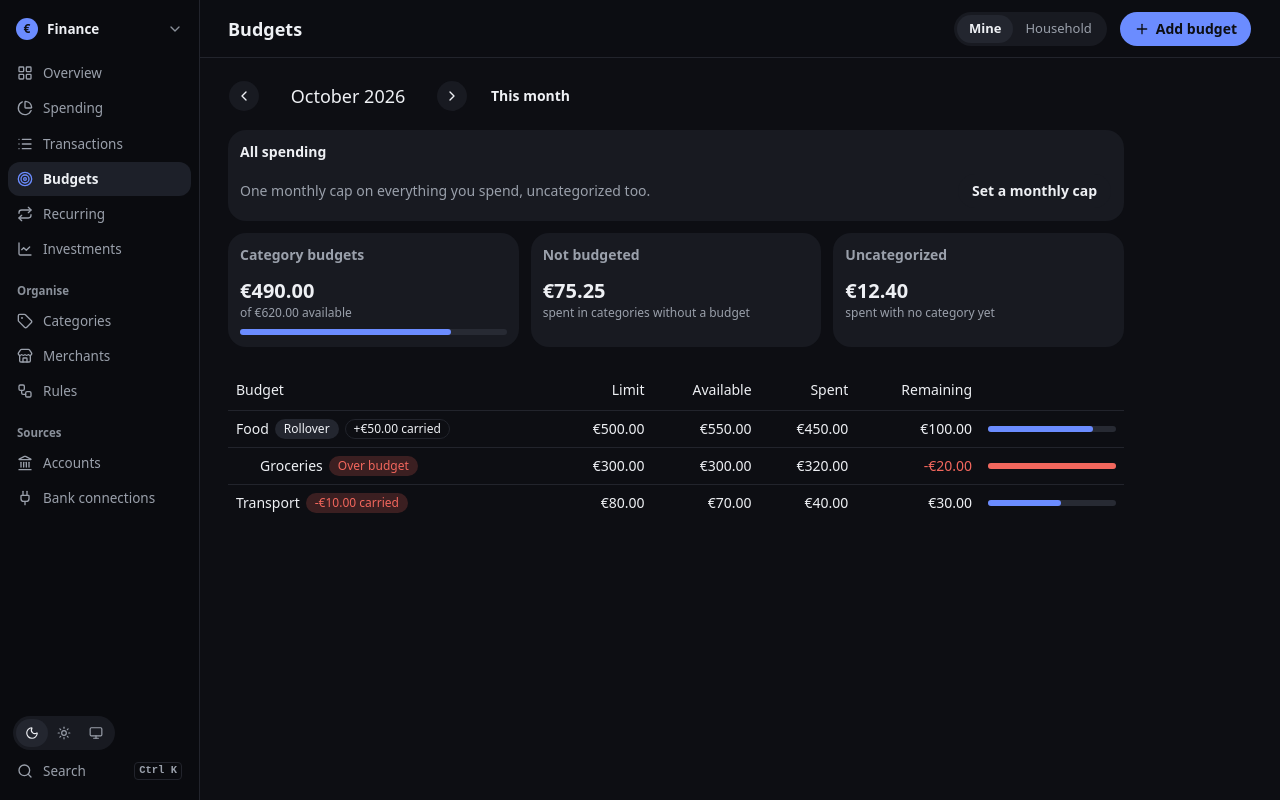
edits a budget from a month on
Click the button "Transport" at (268, 503), box top-left (236, 493), bottom-right (300, 513)
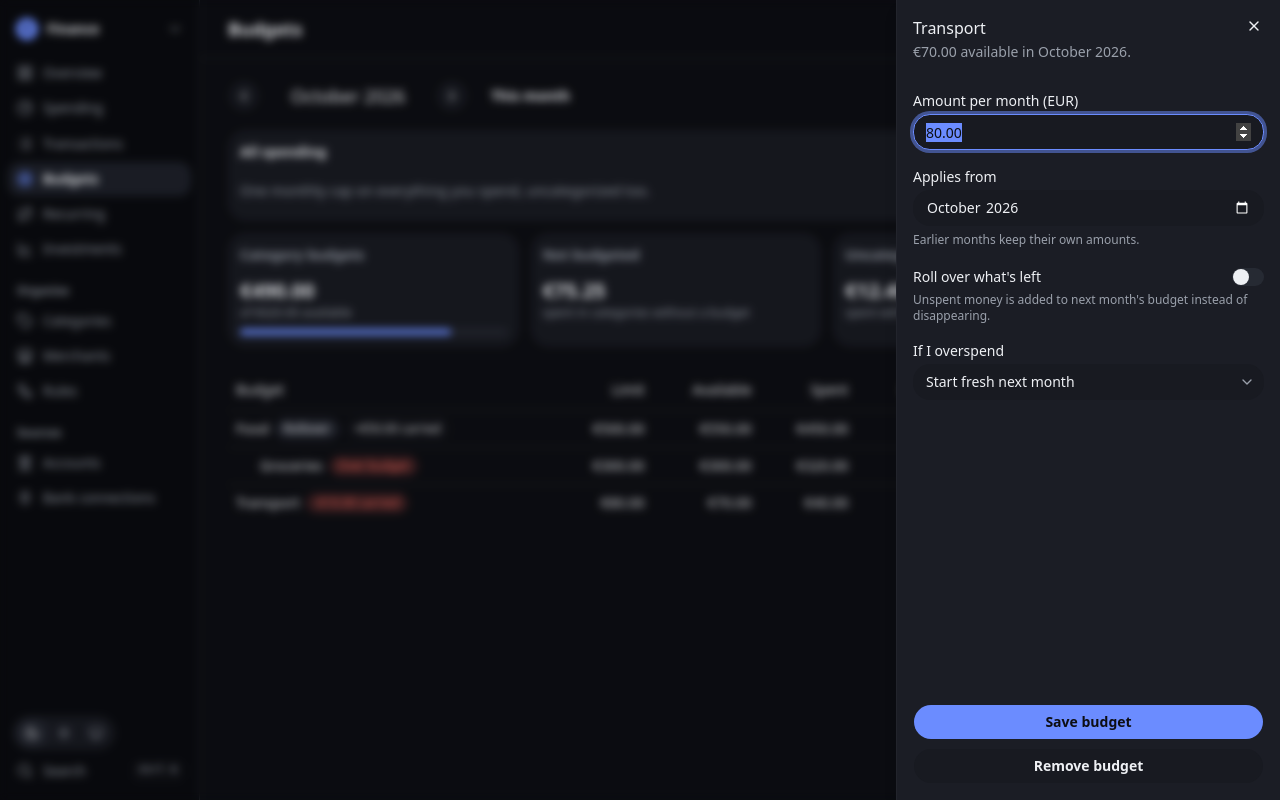
Expected: the number field labelled "Amount per month (EUR)" holds "80.00"
Expected: the field labelled "Applies from" holds "2026-10", top-left (913, 190), bottom-right (1264, 226)
Replace the text in the number field labelled "Amount per month (EUR)" with "95.5" at (1088, 132), box top-left (913, 114), bottom-right (1264, 150)
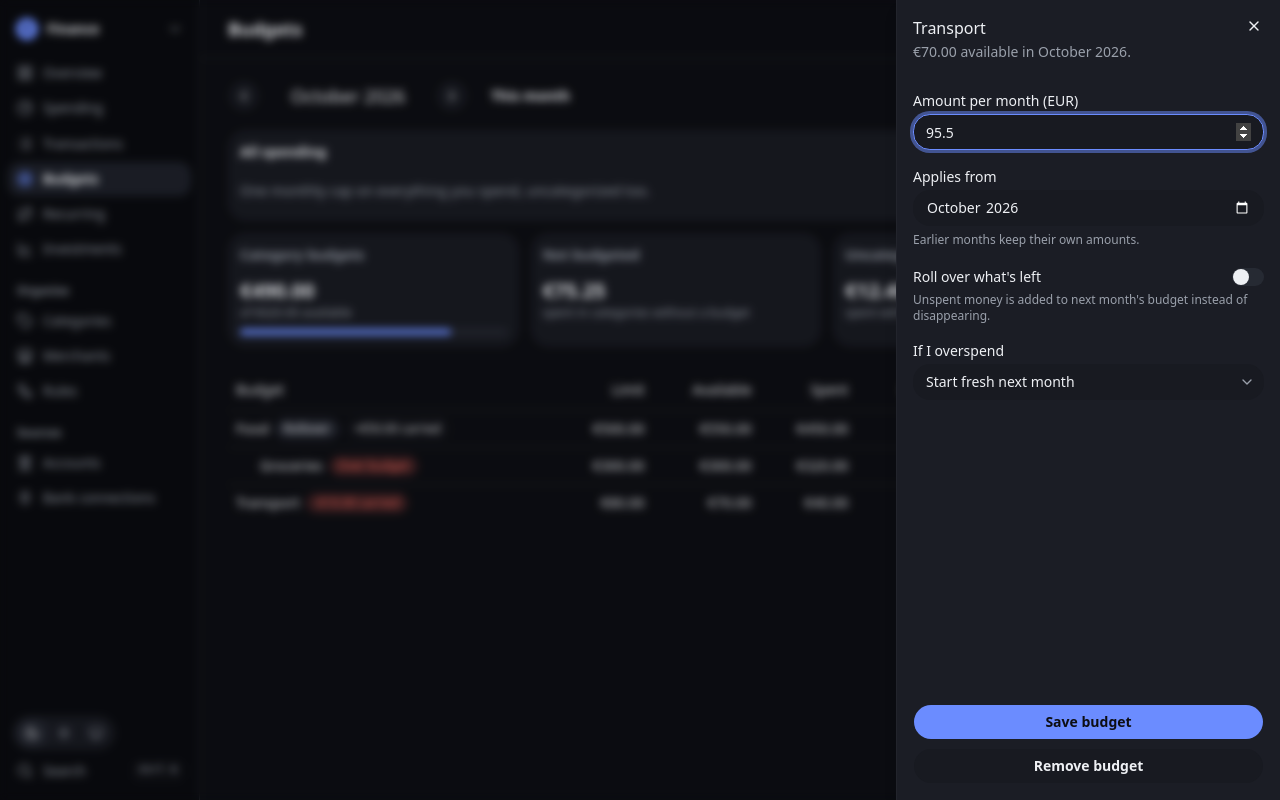
Replace the text in the field labelled "Applies from" with "2026-11" at (1088, 208), box top-left (913, 190), bottom-right (1264, 226)
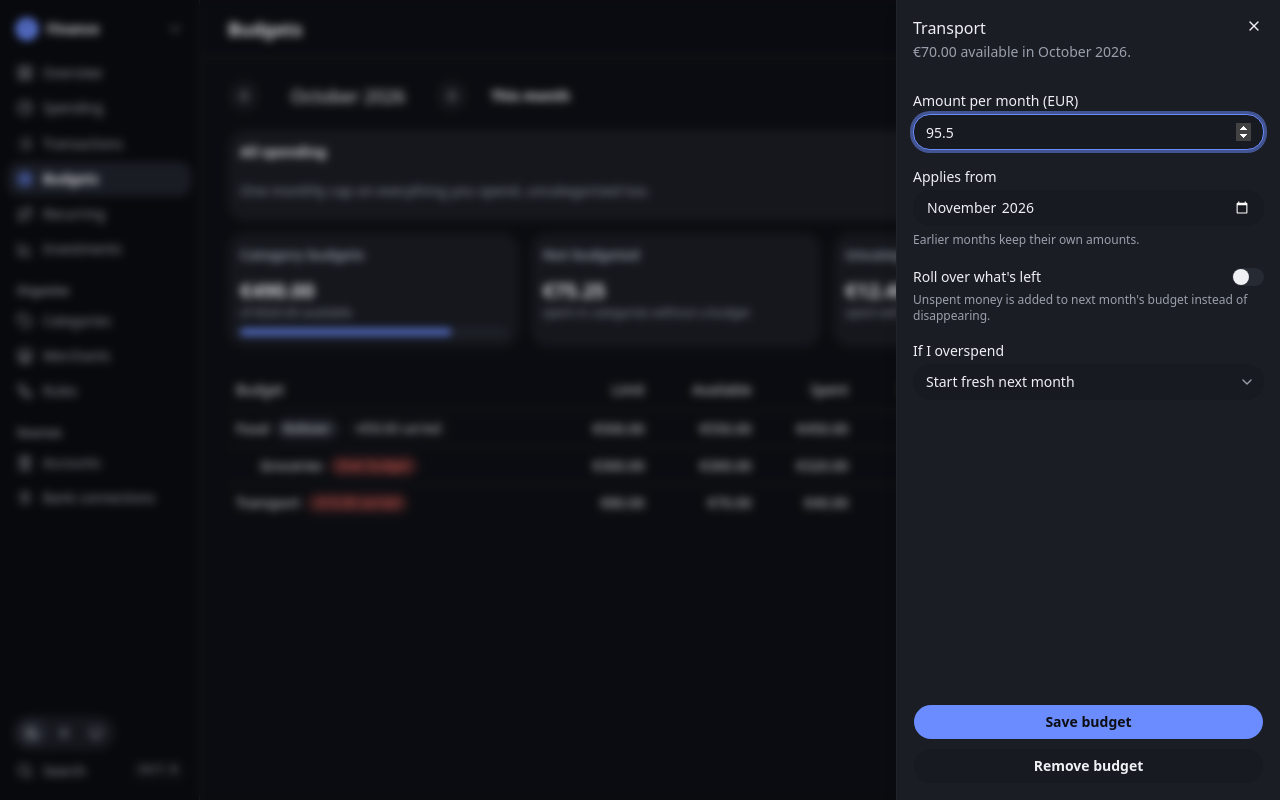
Click the button "Save budget" at (1088, 722), box top-left (913, 704), bottom-right (1264, 740)
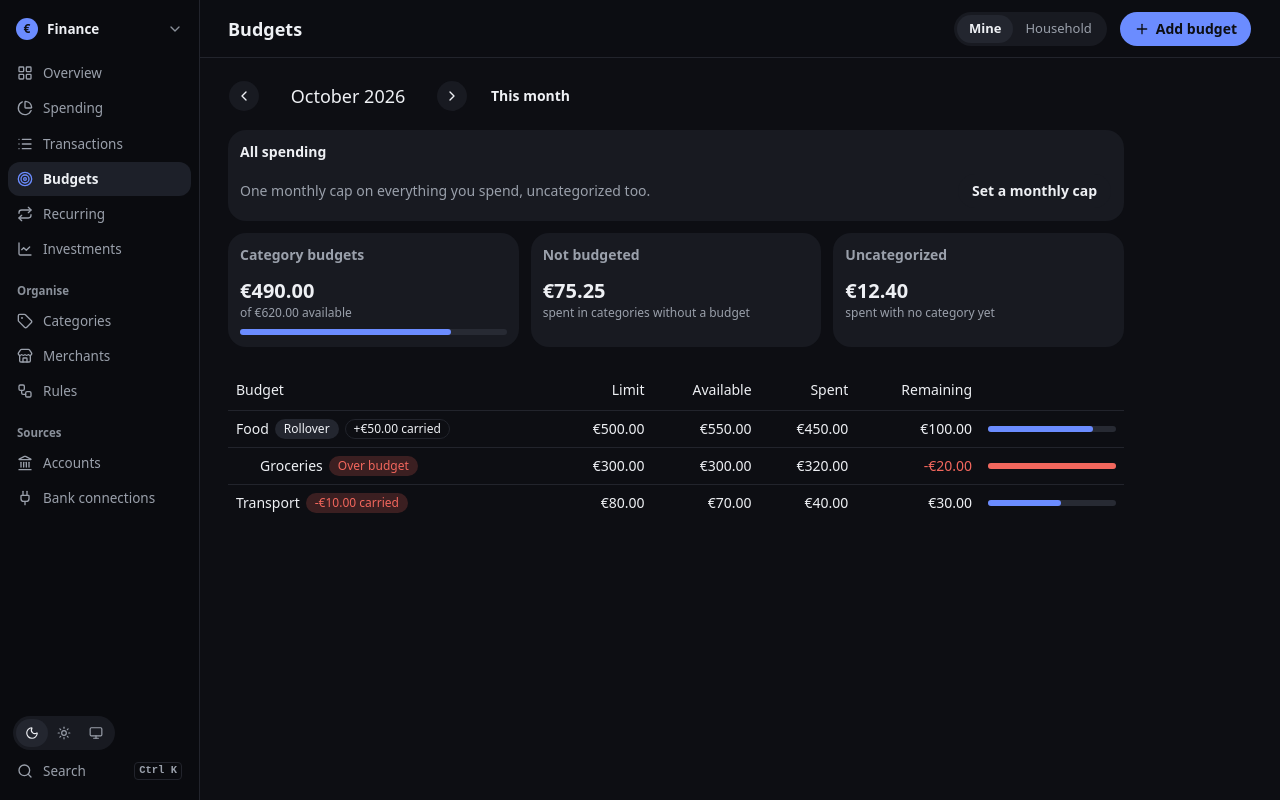
Expected: the dialog is gone
